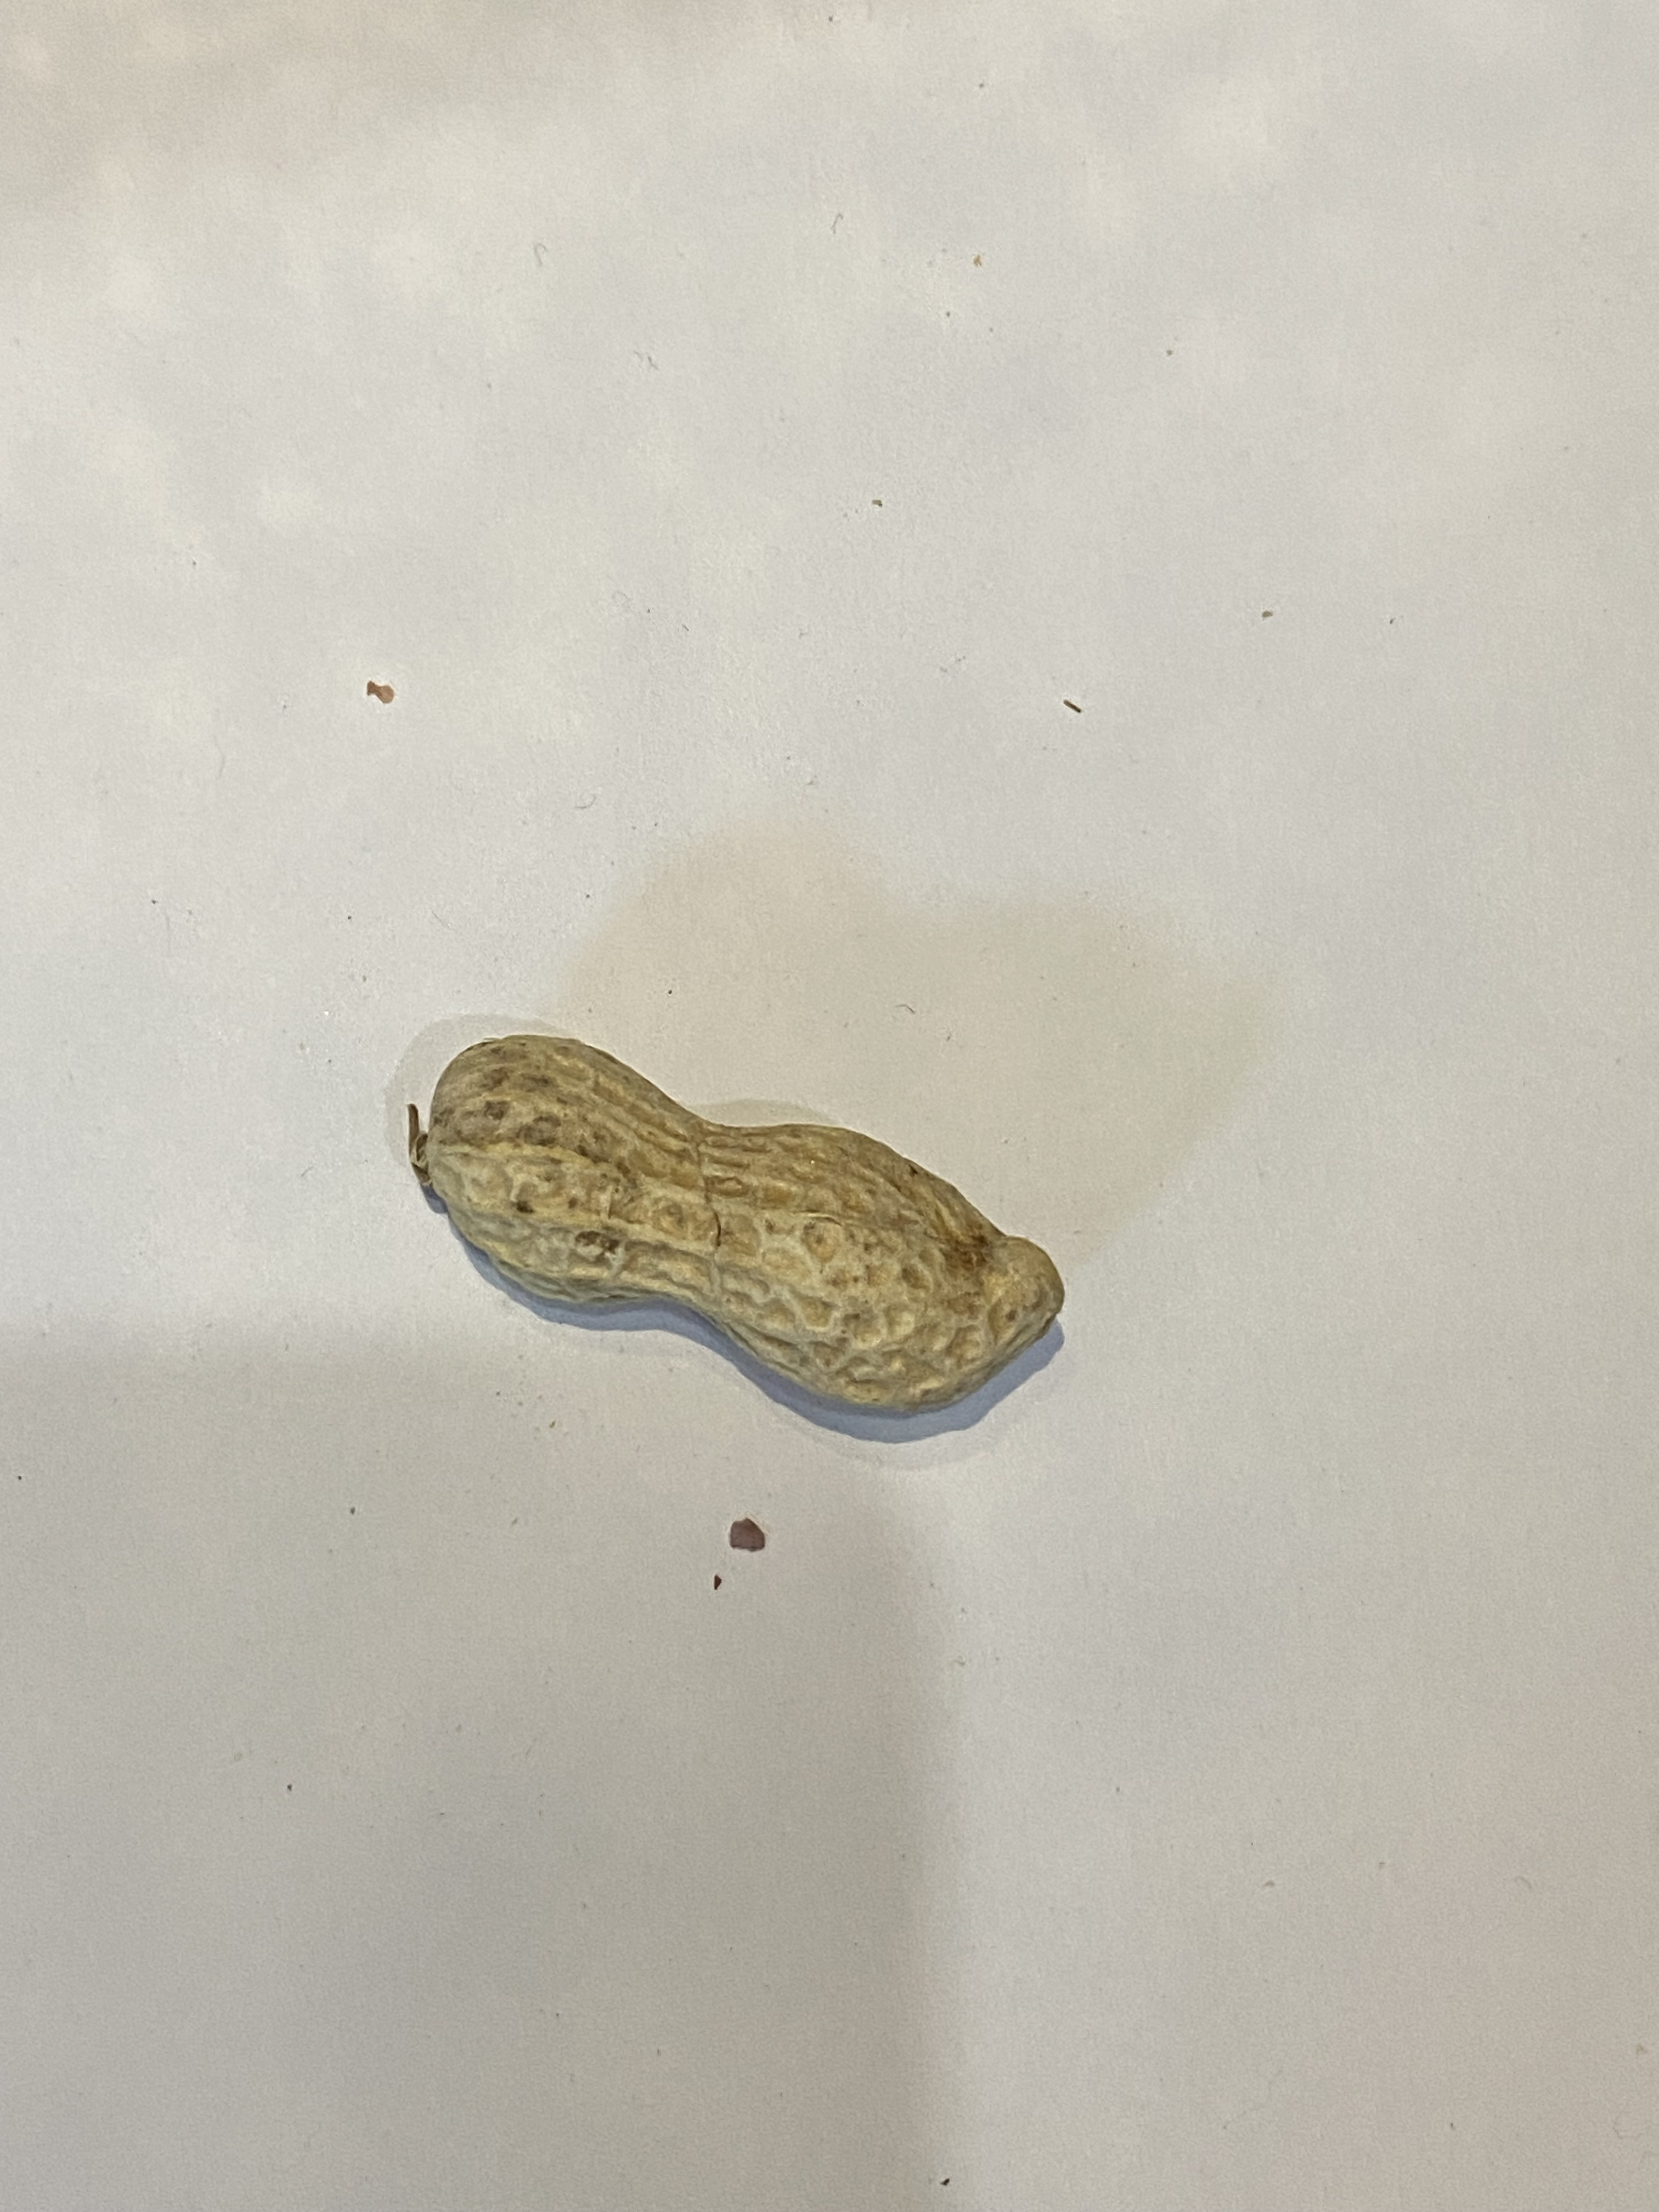kacang2: (396, 1024, 1072, 1428)
